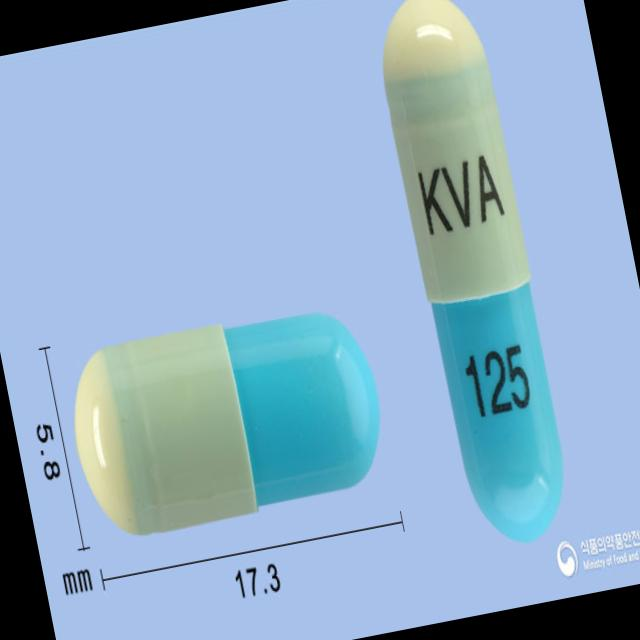Vancozin Cap: (366, 0, 583, 551)
